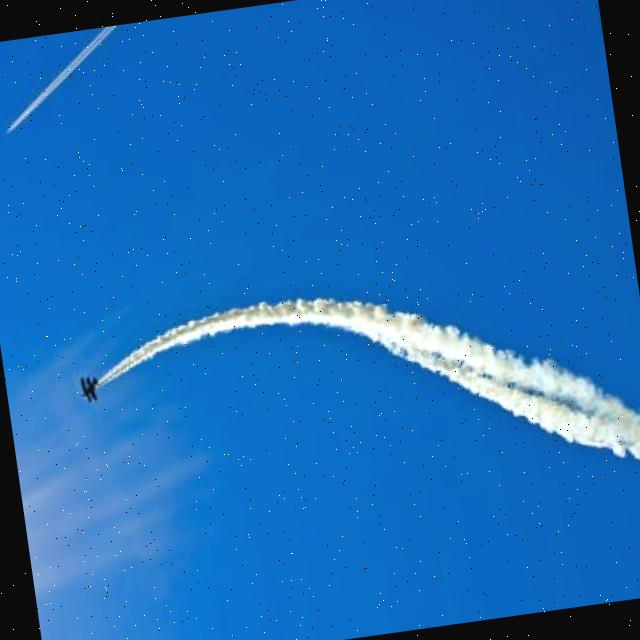Ct: (63, 243, 640, 548)
